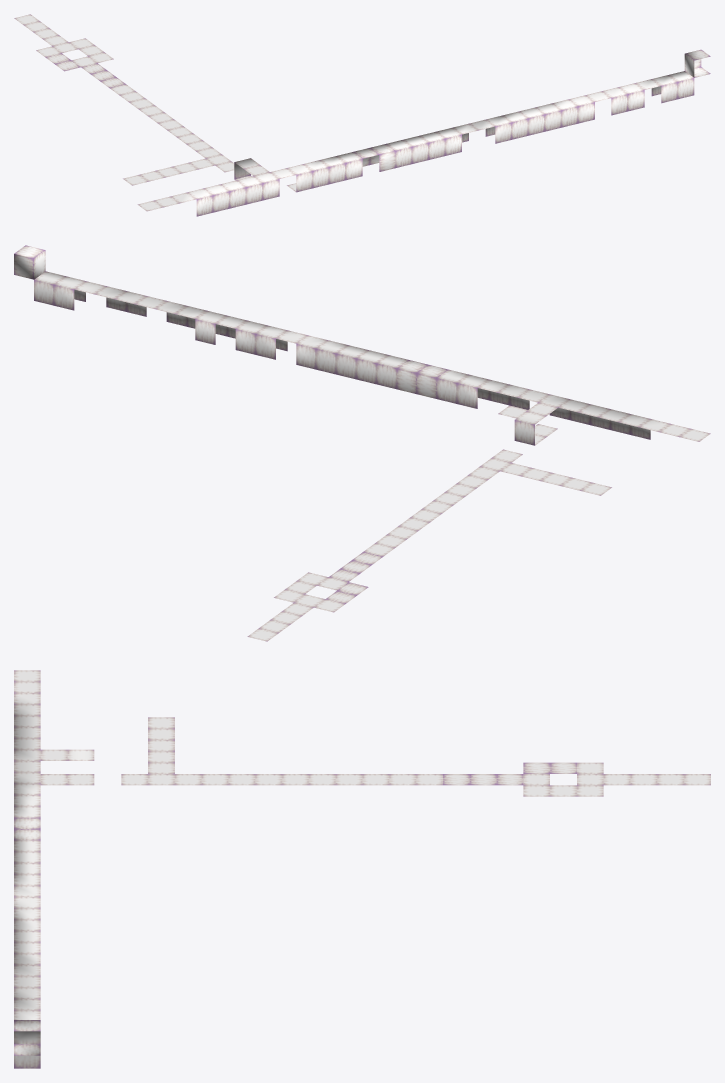
Rendered from PLAYABLE_007.fbx.
3 views of the same model, one above another, from view 1: azimuth 30°, elevation 25°; view 2: azimuth 150°, elevation 25°; view 3: azimuth 270°, elevation 25° (orthographic). The views are drawn at different scales.
Visible parts, largest first — view 1: PLAYABLE.007; view 2: PLAYABLE.007; view 3: PLAYABLE.007.
Part boxes in pixels (x1,y1,x2,y2): PLAYABLE.007: [14, 14, 710, 216]; PLAYABLE.007: [14, 245, 710, 641]; PLAYABLE.007: [14, 670, 710, 1068].
Bounding box in the file's own units: 3400 × 200 × 2600.
